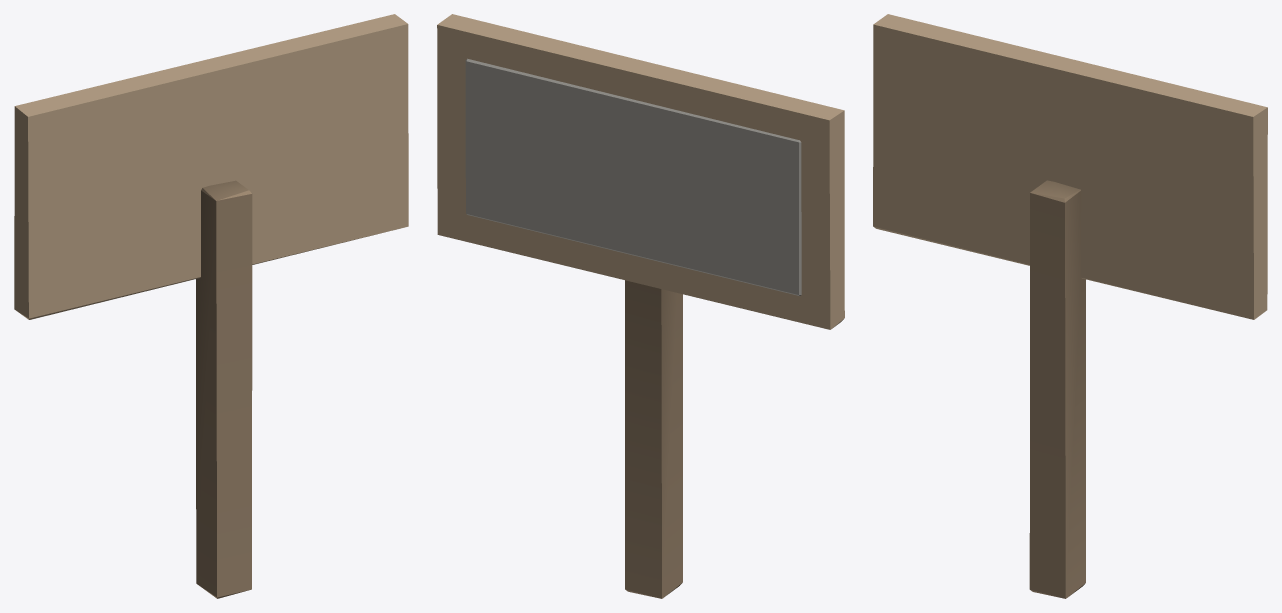
Rendered from sign_plaque_low.glb.
The picture shows the model from 3 angles, left to right: view 1: azimuth 30°, elevation 25°; view 2: azimuth 150°, elevation 25°; view 3: azimuth 330°, elevation 25°; orthographic projection. The views are drawn at different scales.
Size of the model in its own units: 0.6954 by 0.8975 by 0.0984.
